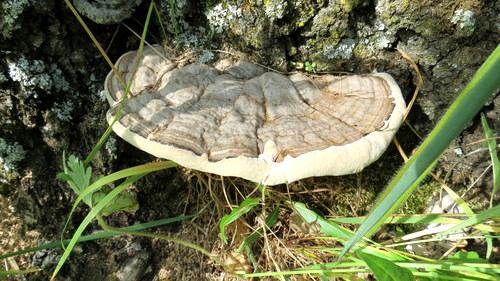Ganoderma - Fruit Body: (104, 43, 408, 186)
